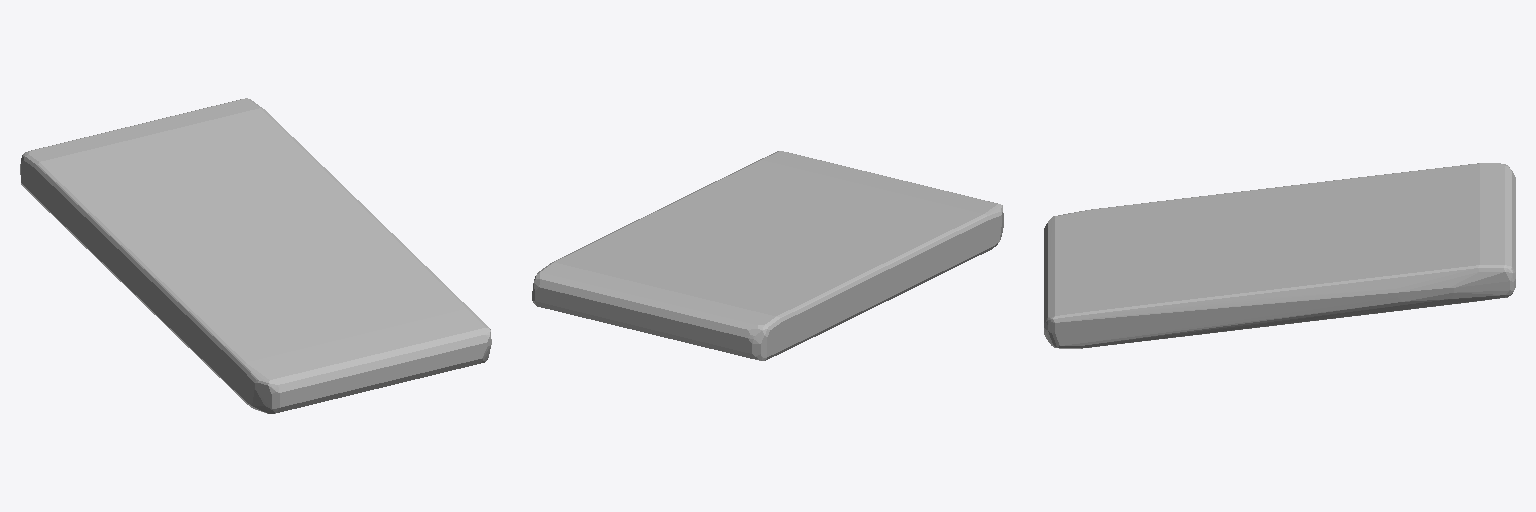
The robot description file, URDF, robot "root":
<robot name="root">
  <link name="link_coacd_convex_piece_0">
    <inertial>
      <origin xyz="0 0 0" rpy="0 0 0"/>
      <inertia ixx="4.30E-02" ixy="-6.96E-05" ixz="-8.53E-06" iyy="1.35E-02" iyz="-5.46E-03" izz="5.45E-02"/>
    </inertial>
    <visual>
      <origin xyz="0 0 0" rpy="0 0 0"/>
      <geometry>
        <mesh filename="coacd_convex_piece_0.obj" scale="1.0000E+00 1.0000E+00 1.0000E+00"/>
      </geometry>
      <material name="">
        <color rgba="7.50E-01 7.50E-01 7.50E-01 1"/>
      </material>
    </visual>
    <collision>
      <origin xyz="0 0 0" rpy="0 0 0"/>
      <geometry>
        <mesh filename="coacd_convex_piece_0.obj" scale="1.0000E+00 1.0000E+00 1.0000E+00"/>
      </geometry>
    </collision>
  </link>
</robot>

--- Facts derived from the render (not from the file) ---
3 views of the same robot in one strip: view 1: azimuth 30°, elevation 25°; view 2: azimuth 150°, elevation 25°; view 3: azimuth 270°, elevation 25° (orthographic).
Model root with 1 links and 0 joints (none), rooted at link_coacd_convex_piece_0, posed all joints at 0.
Links seen in each view (by area): view 1: link_coacd_convex_piece_0; view 2: link_coacd_convex_piece_0; view 3: link_coacd_convex_piece_0.
Boxes of the visible links, x1,y1,x2,y2 form: link_coacd_convex_piece_0: (20, 98, 491, 413); link_coacd_convex_piece_0: (532, 151, 1003, 360); link_coacd_convex_piece_0: (1044, 163, 1515, 348).
Bounding box of the posed robot: 0.9502 × 1.75 × 0.3421 m (x, y, z).
Meshes: 1 distinct files referenced, 1 mesh visuals loaded (1 OBJ).
